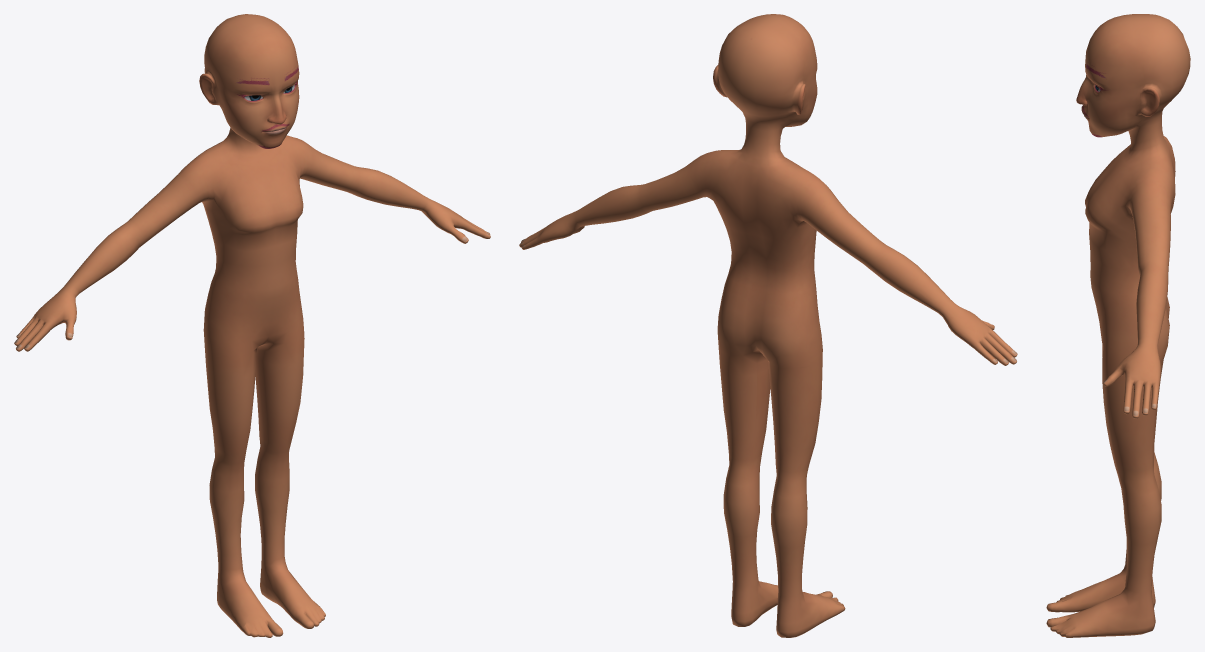
Rendered from frame_0064.glb.
3 renders of one model, left to right at view 1: azimuth 30°, elevation 25°; view 2: azimuth 150°, elevation 25°; view 3: azimuth 270°, elevation 25°, orthographic. The views are drawn at different scales.
Parts seen in each view (by area): view 1: frame_0064_head_geo; view 2: frame_0064_head_geo; view 3: frame_0064_head_geo.
Part boxes in pixels (bbox=[...]): frame_0064_head_geo: bbox=[14, 14, 490, 637]; frame_0064_head_geo: bbox=[519, 14, 1017, 637]; frame_0064_head_geo: bbox=[1046, 14, 1190, 637].
Size of the model in its own units: 1.28 by 1.5 by 0.3253.
Materials: 3 (3 with a texture image).
